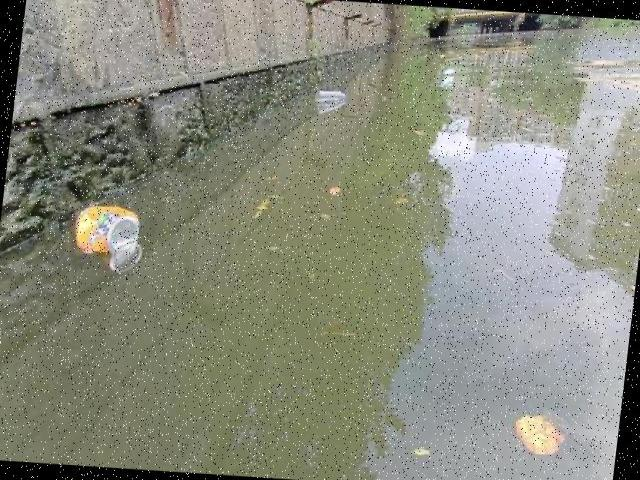Can: (72, 205, 142, 273)
